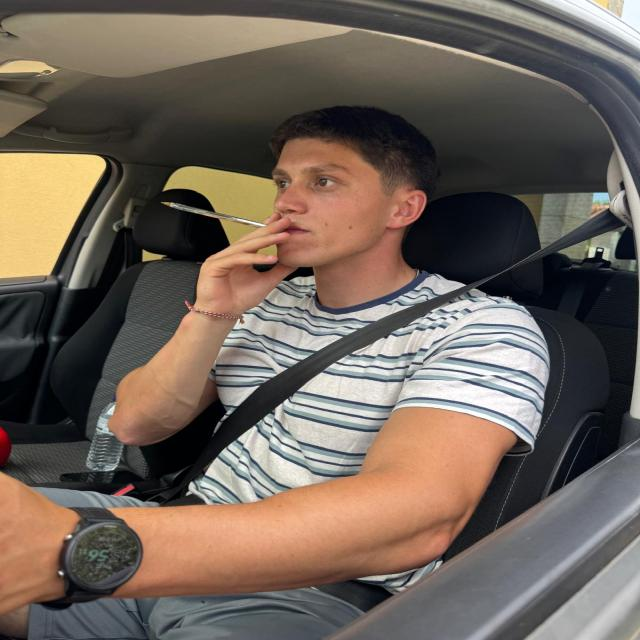Cigarette: (158, 199, 275, 233)
Seatbelt: (153, 187, 620, 504)
